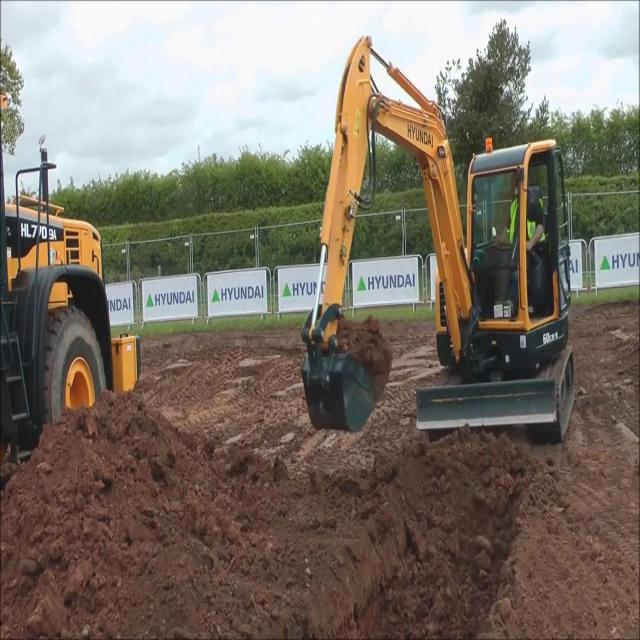buldozerpayloadergrader: (0, 90, 142, 490)
excavator: (298, 34, 576, 447)
